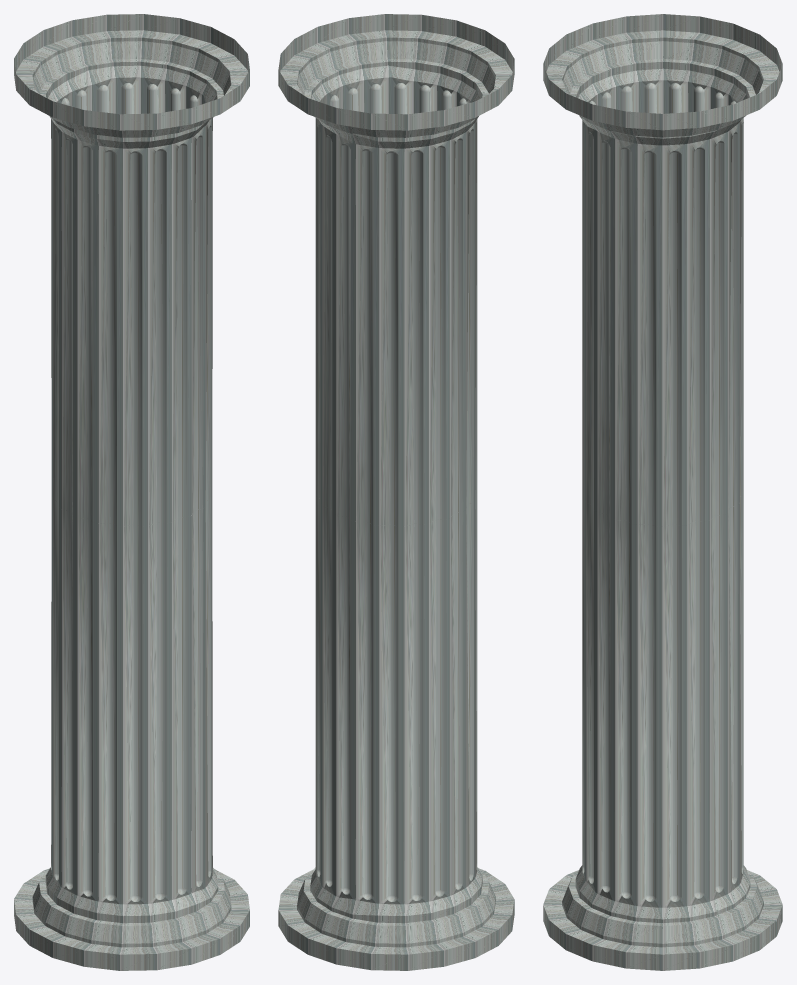
Rendered from pillar.FBX.
The picture shows the model from 3 angles, left to right: view 1: azimuth 30°, elevation 25°; view 2: azimuth 150°, elevation 25°; view 3: azimuth 270°, elevation 25°; orthographic projection.
Parts seen in each view (by area): view 1: Sphere020; view 2: Sphere020; view 3: Sphere020.
Part boxes in pixels (x1,y1,x2,y2): Sphere020: (14, 14, 249, 970); Sphere020: (278, 14, 514, 970); Sphere020: (543, 14, 782, 970).
Size of the model in its own units: 71.07 by 284 by 71.97.
1 material, 1 textured.
